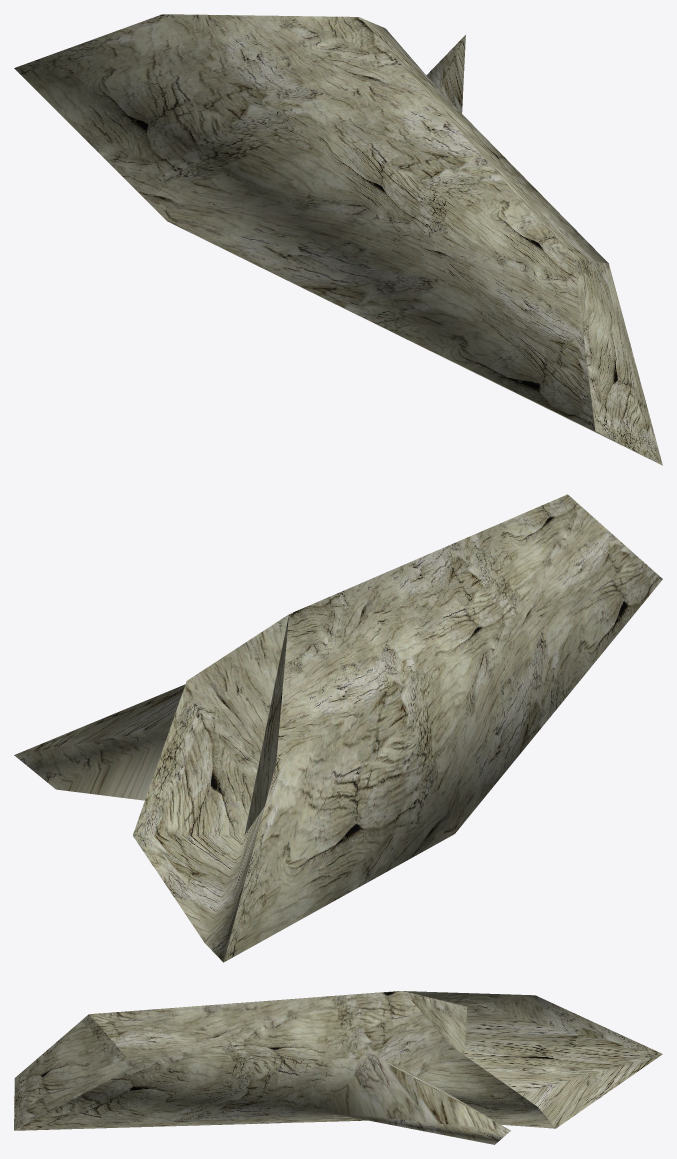
Rendered from shor_driftwood_massassi_lg_l2.fbx.
3 renders of one model, top to bottom at view 1: azimuth 30°, elevation 25°; view 2: azimuth 150°, elevation 25°; view 3: azimuth 270°, elevation 25°, orthographic. The views are drawn at different scales.
Parts seen in each view (by area): view 1: mesh_node; view 2: mesh_node; view 3: mesh_node.
Part boxes in pixels (left/top/right/bottom): mesh_node: left=14, top=14, right=662, bottom=465; mesh_node: left=14, top=494, right=662, bottom=962; mesh_node: left=14, top=991, right=662, bottom=1144.
Bounding box in the file's own units: 2.84 × 1.71 × 6.78.
